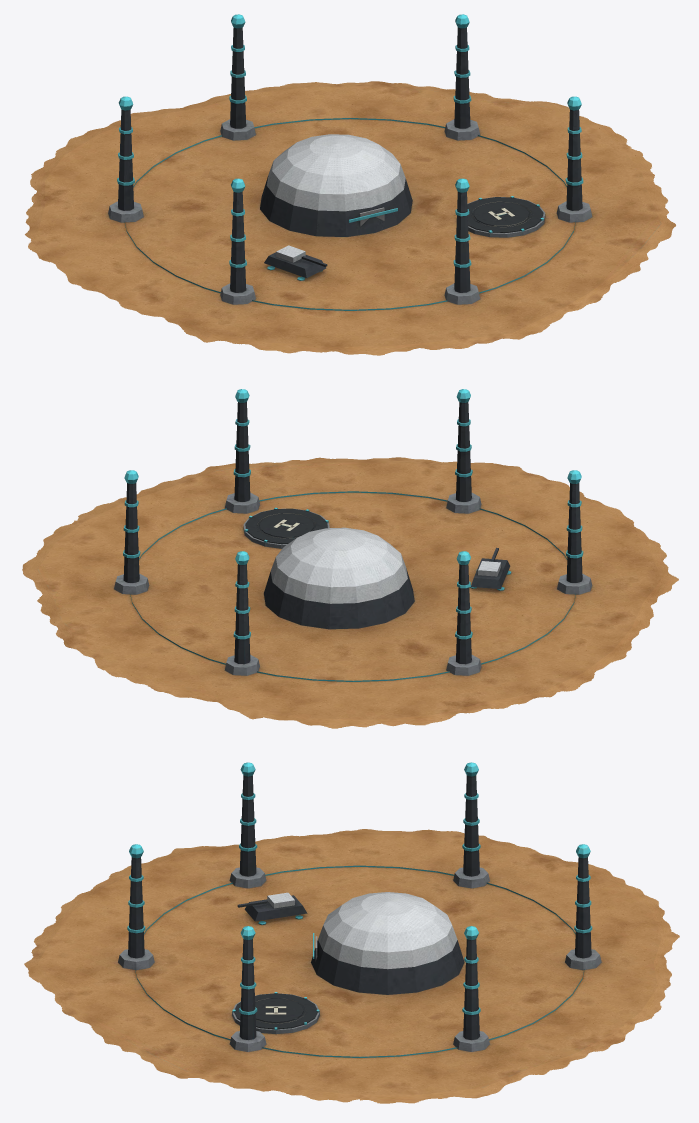
Rendered from fort-future.glb.
3 views of the same model, one above another, from view 1: azimuth 30°, elevation 25°; view 2: azimuth 150°, elevation 25°; view 3: azimuth 270°, elevation 25° (orthographic).
Visible parts, largest first — view 1: LOD0; view 2: LOD0; view 3: LOD0.
Boxes of the visible parts, x1,y1,x2,y2 form: LOD0: (25,14,675,355); LOD0: (22,389,678,728); LOD0: (24,762,679,1103).
Size of what is drawn, in the model's own units: 4.74 by 0.9619 by 4.8.
3 materials, 3 textured.
